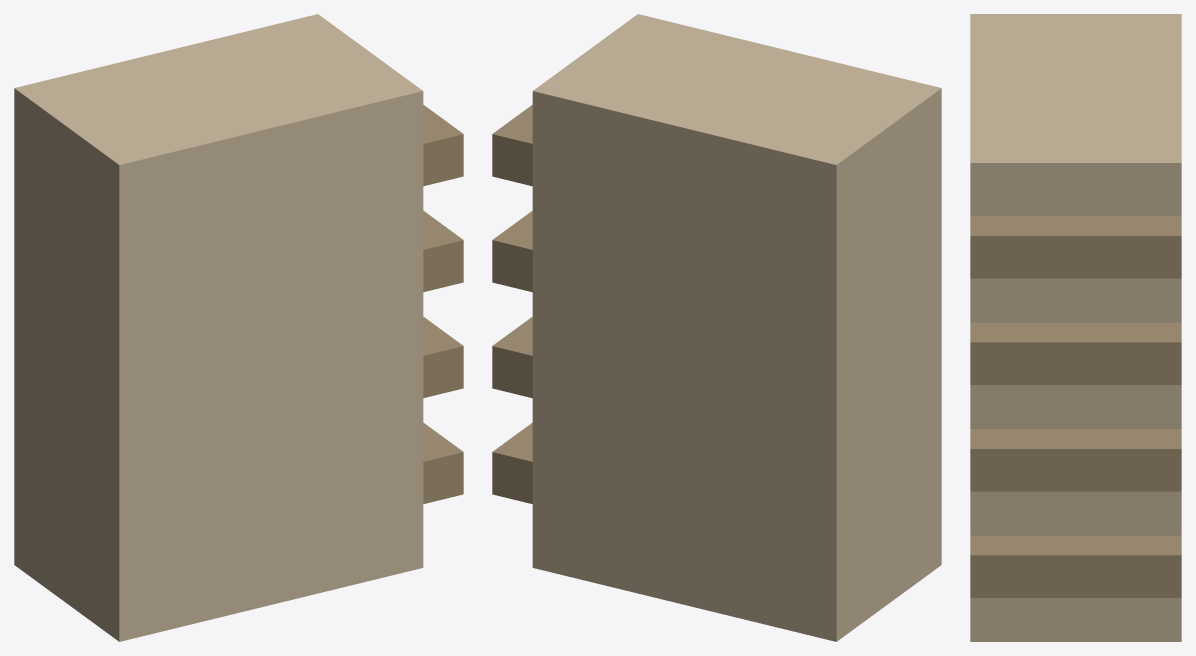
The model's file is LightSandStoneDoorLargeRightWithTeeth1.fbx.
3 renders of one model, left to right at view 1: azimuth 30°, elevation 25°; view 2: azimuth 150°, elevation 25°; view 3: azimuth 270°, elevation 25°, orthographic.
Parts seen in each view (by area): view 1: LightSandStoneDoorLargeRightWithTeeth1, D_GapDoor1_002, D_GapDoor1_003, D_GapDoor1_001, D_GapDoor1_004; view 2: LightSandStoneDoorLargeRightWithTeeth1, D_GapDoor1_002, D_GapDoor1_003, D_GapDoor1_001, D_GapDoor1_004; view 3: LightSandStoneDoorLargeRightWithTeeth1, D_GapDoor1_001, D_GapDoor1_002, D_GapDoor1_003, D_GapDoor1_004.
Boxes of the visible parts, box(x1,y1,x2,y2) form: LightSandStoneDoorLargeRightWithTeeth1: box(14, 14, 423, 641); D_GapDoor1_002: box(423, 211, 463, 292); D_GapDoor1_003: box(423, 317, 463, 398); D_GapDoor1_001: box(423, 105, 463, 186); D_GapDoor1_004: box(423, 422, 463, 503); LightSandStoneDoorLargeRightWithTeeth1: box(532, 14, 941, 641); D_GapDoor1_002: box(492, 211, 532, 292); D_GapDoor1_003: box(492, 317, 532, 398); D_GapDoor1_001: box(492, 105, 532, 186); D_GapDoor1_004: box(492, 422, 532, 503); LightSandStoneDoorLargeRightWithTeeth1: box(970, 14, 1181, 641); D_GapDoor1_001: box(970, 216, 1181, 278); D_GapDoor1_002: box(970, 322, 1181, 384); D_GapDoor1_003: box(970, 429, 1181, 491); D_GapDoor1_004: box(970, 535, 1181, 597).
Bounding box in the file's own units: 340 × 450 × 180.
